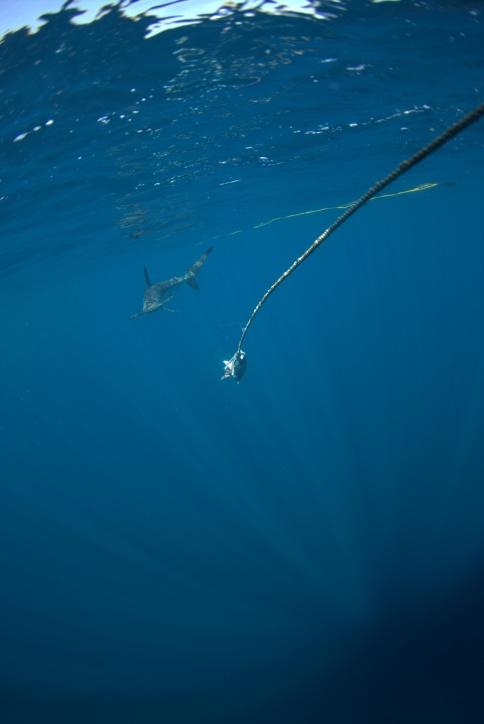Hammer: (116, 235, 233, 332)
